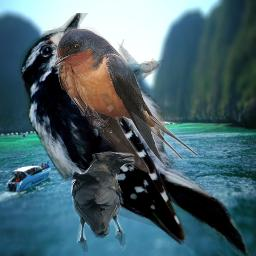Crow: (71, 149, 135, 252)
Swallow: (53, 27, 197, 173)
Woodpecker: (16, 13, 253, 256)
